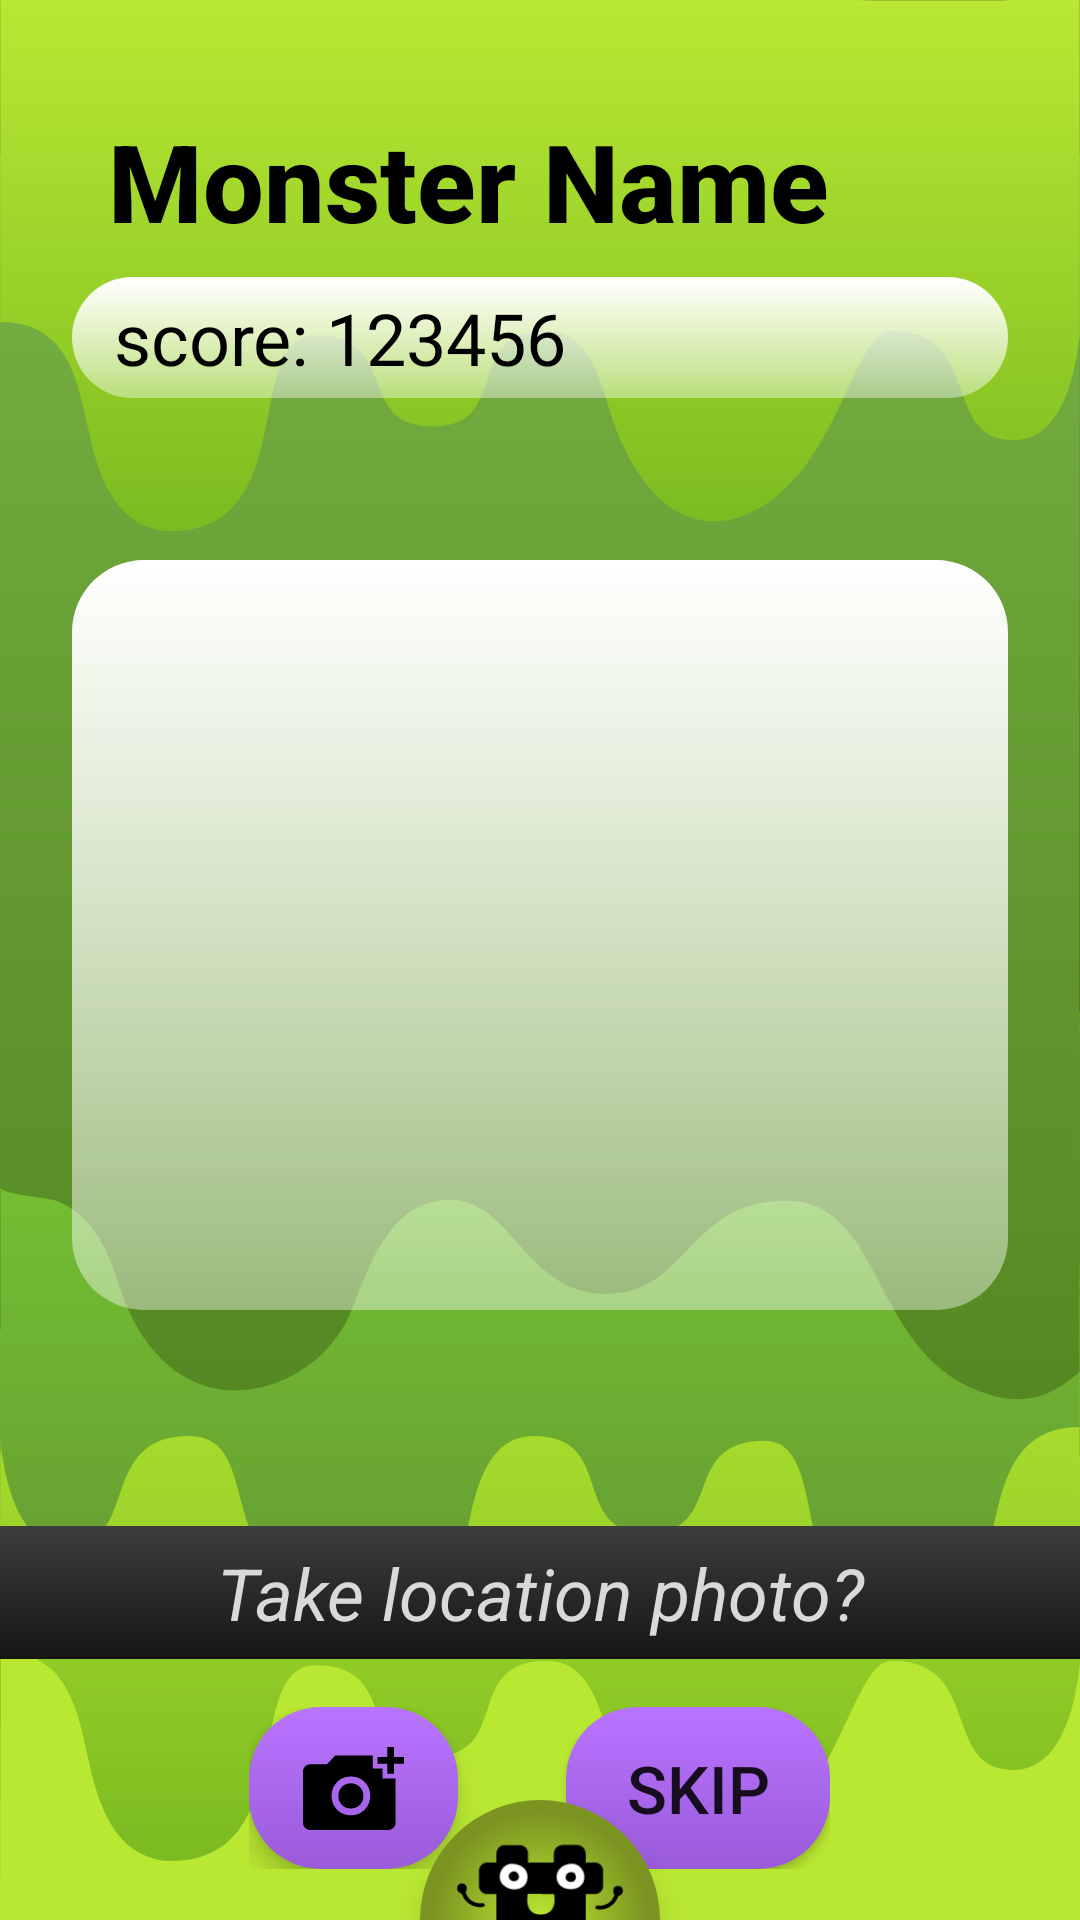

Icons on this 1080 × 1920 Android screen, each with the point to tap as point (x, y):
camera: point (353, 1788)
